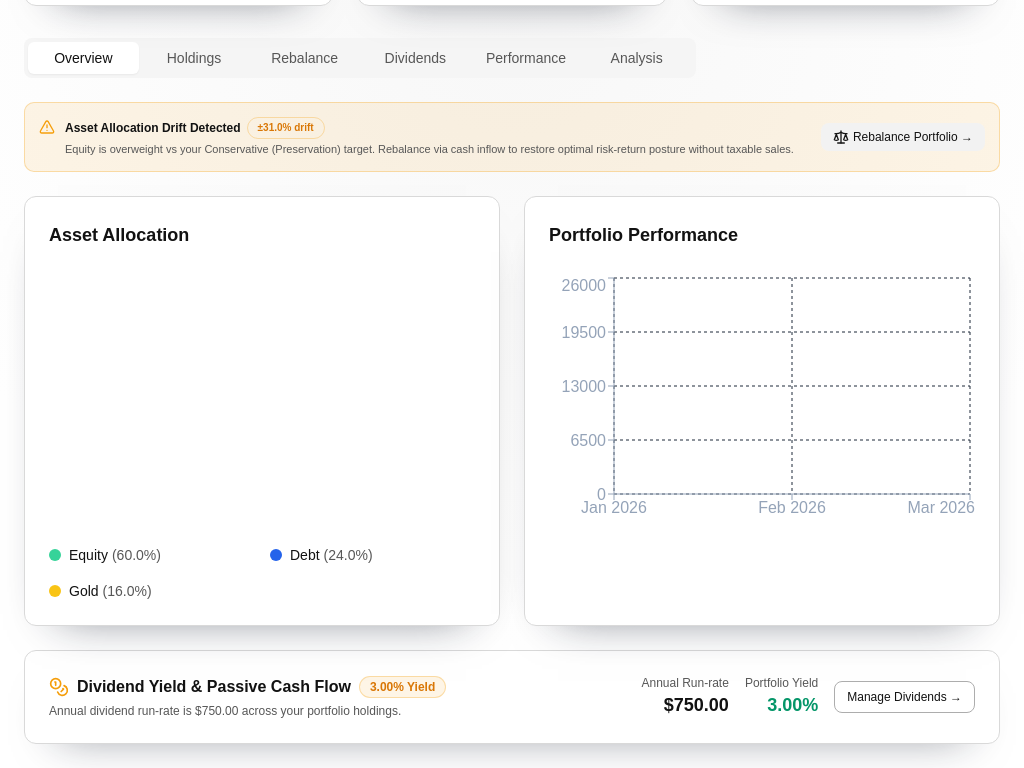
Test case: Portfolio Page › renders dividend summary widget in overview and navigates to Dividends tab
This screenshot has width=1024, height=768.
(page scrolled)
Expected: the element with test id "portfolio-dividend-overview-card" shows "$750.00", [195,704,238,718]
Expected: the element with test id "portfolio-dividend-overview-card" shows "3.00% Yield", [24,650,1000,744]
Click the button with test id "view-dividends-tab-btn": coordinates (905, 697) [834,681,975,713]
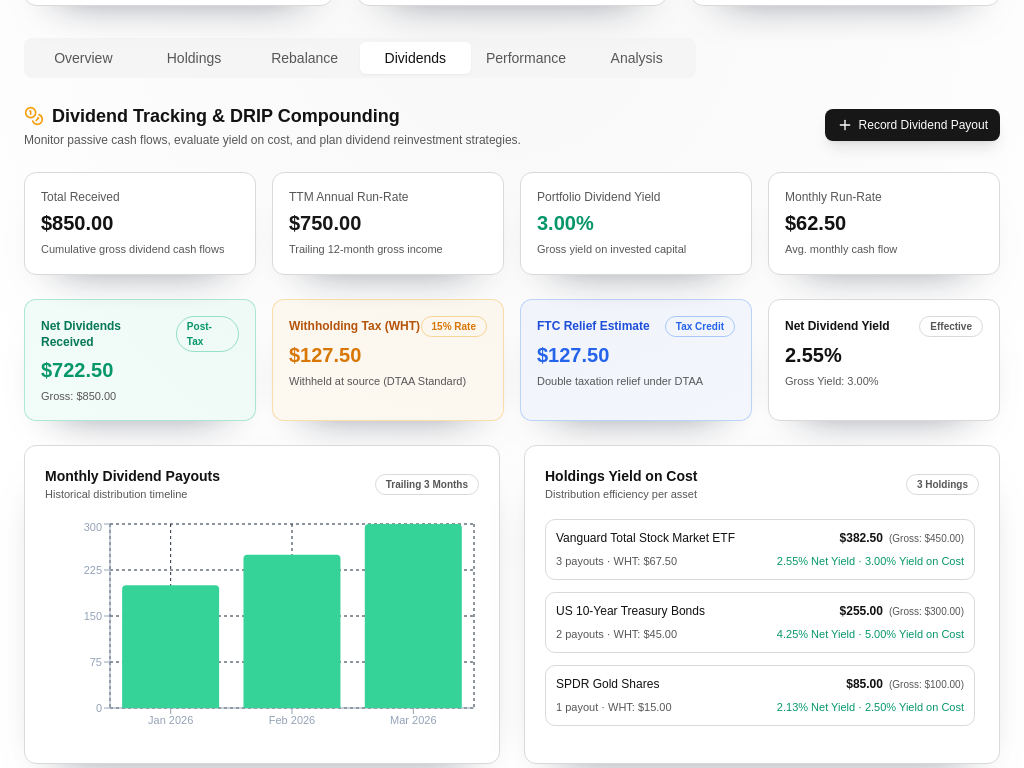
Expected: the heading "Dividend Tracking & DRIP Compounding" is shown, [24,106,400,126]
